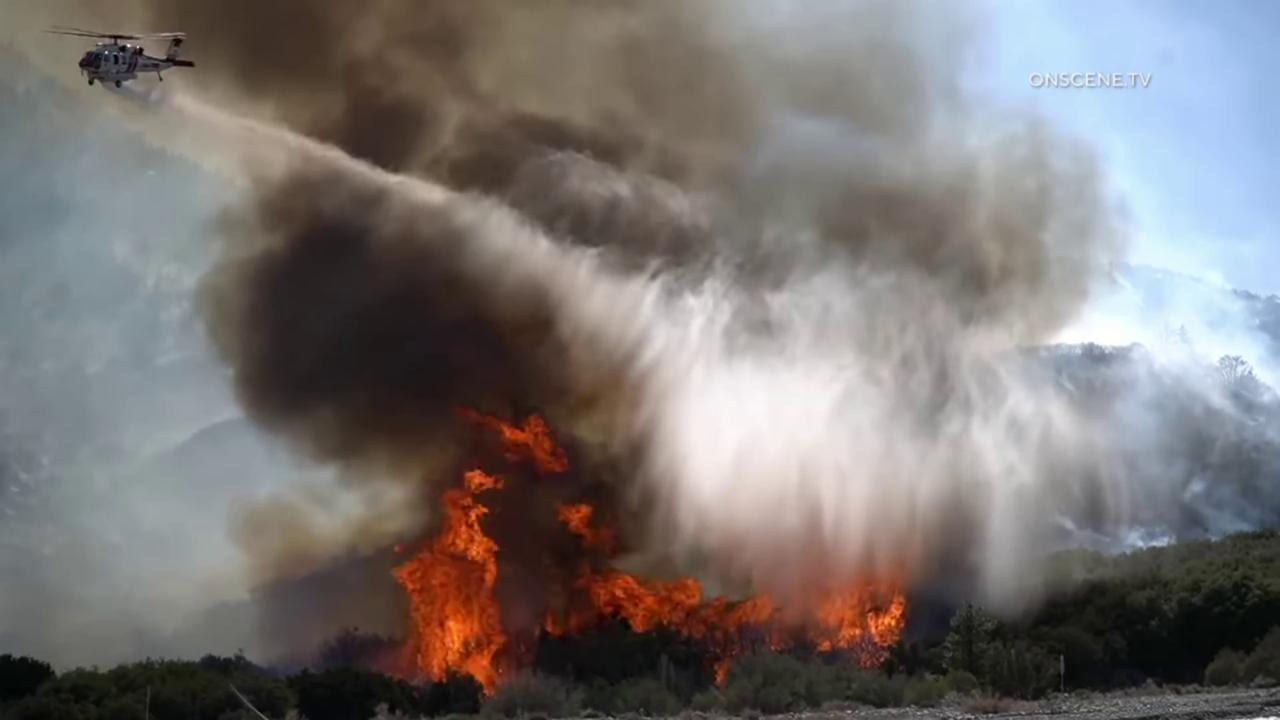fire: (544, 560, 907, 686), (388, 469, 509, 697), (454, 401, 570, 475), (554, 499, 616, 546)
smoke: (0, 0, 1280, 668)
